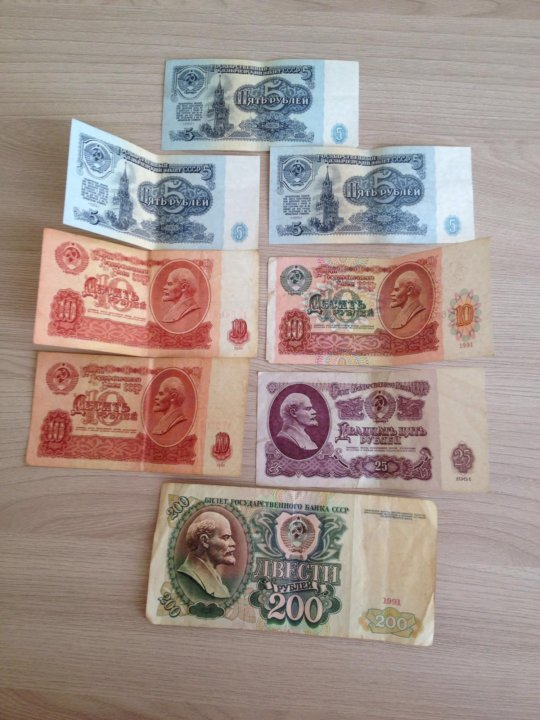cash: (145, 481, 439, 644), (32, 225, 261, 359), (266, 233, 493, 366), (256, 365, 490, 492), (24, 350, 248, 477), (62, 115, 259, 252), (267, 144, 478, 246), (160, 55, 361, 151)
